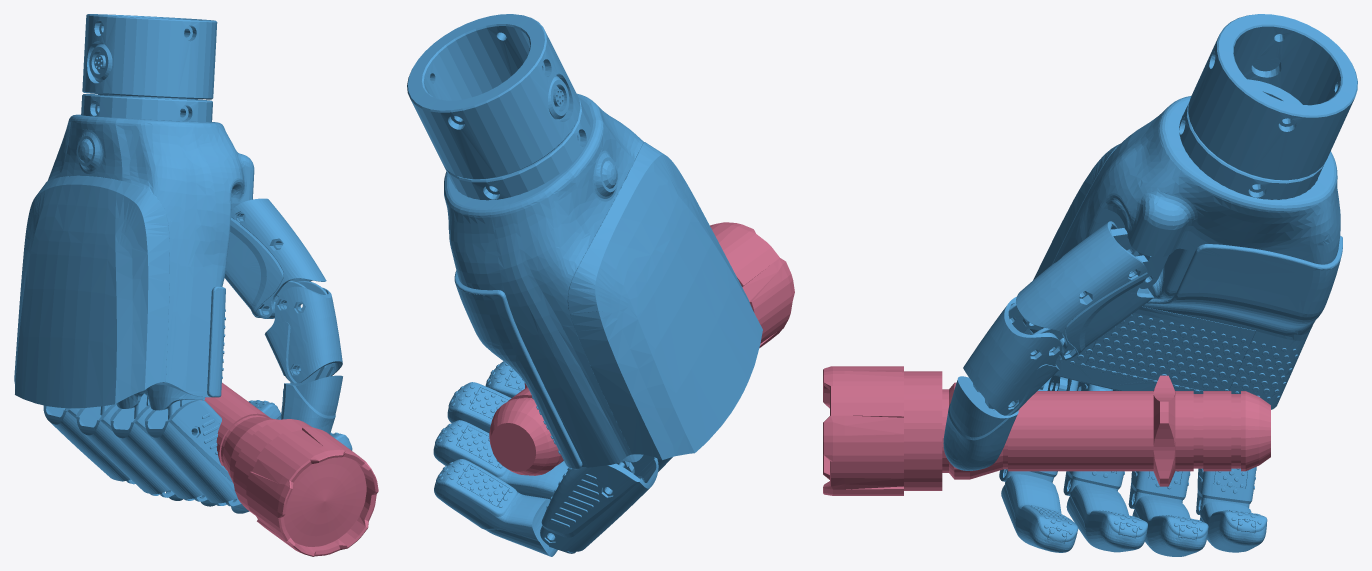
3 renders of one model, left to right at view 1: azimuth 30°, elevation 25°; view 2: azimuth 150°, elevation 25°; view 3: azimuth 270°, elevation 25°, orthographic. The views are drawn at different scales.
Parts seen in each view (by area): view 1: 4; view 2: 4; view 3: 4.
Part boxes in pixels (left/top/right/bottom): 4: left=14, top=14, right=378, bottom=556; 4: left=407, top=14, right=794, bottom=556; 4: left=823, top=14, right=1357, bottom=556.
Size of the model in its own units: 0.1137 by 0.194 by 0.1786.
